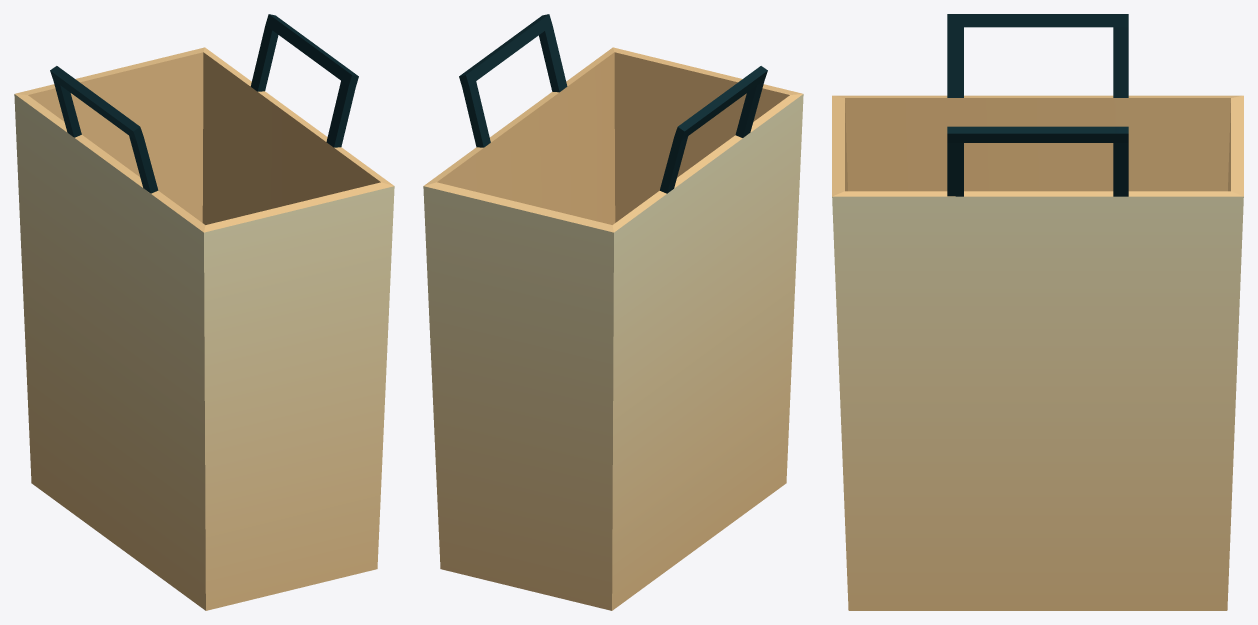
Rendered from Bag.fbx.
3 views of the same model, side by side, from view 1: azimuth 30°, elevation 25°; view 2: azimuth 150°, elevation 25°; view 3: azimuth 270°, elevation 25° (orthographic). The views are drawn at different scales.
Parts seen in each view (by area): view 1: Bag; view 2: Bag; view 3: Bag.
Boxes of the visible parts, x1,y1,x2,y2 form: Bag: (14, 14, 394, 610); Bag: (423, 14, 803, 610); Bag: (832, 14, 1243, 610).
Bounding box in the file's own units: 13.64 × 26.32 × 19.84.
